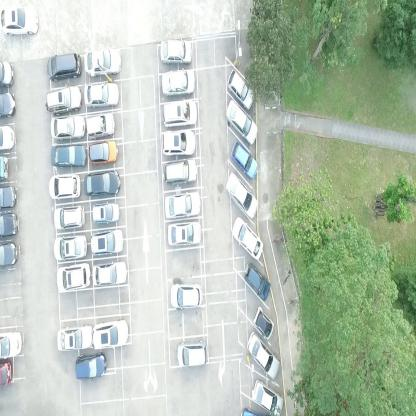car: (246, 329, 280, 381), (224, 170, 258, 219), (225, 98, 258, 145), (230, 215, 264, 259), (0, 3, 40, 36), (250, 377, 284, 415), (45, 84, 83, 117), (225, 67, 254, 110), (243, 258, 271, 300), (230, 138, 258, 180), (162, 97, 198, 129), (164, 190, 202, 220), (84, 168, 122, 198), (57, 262, 92, 294), (83, 48, 120, 78), (92, 320, 129, 350), (52, 233, 89, 263), (57, 322, 92, 353), (162, 156, 198, 186), (161, 129, 196, 159), (83, 82, 119, 110), (46, 53, 82, 81), (160, 68, 194, 97), (50, 114, 86, 141), (75, 350, 107, 380), (176, 339, 209, 368), (48, 172, 81, 201), (169, 281, 203, 309), (167, 221, 202, 248), (53, 202, 85, 231), (91, 228, 124, 256), (50, 144, 86, 169), (88, 138, 119, 167), (92, 262, 127, 287), (159, 40, 193, 65), (252, 303, 274, 339), (90, 201, 120, 224), (86, 114, 115, 137), (0, 331, 24, 357), (0, 241, 19, 265), (0, 358, 15, 388), (0, 124, 16, 152), (0, 60, 17, 86), (0, 212, 19, 235), (0, 91, 16, 118), (0, 185, 17, 209)
